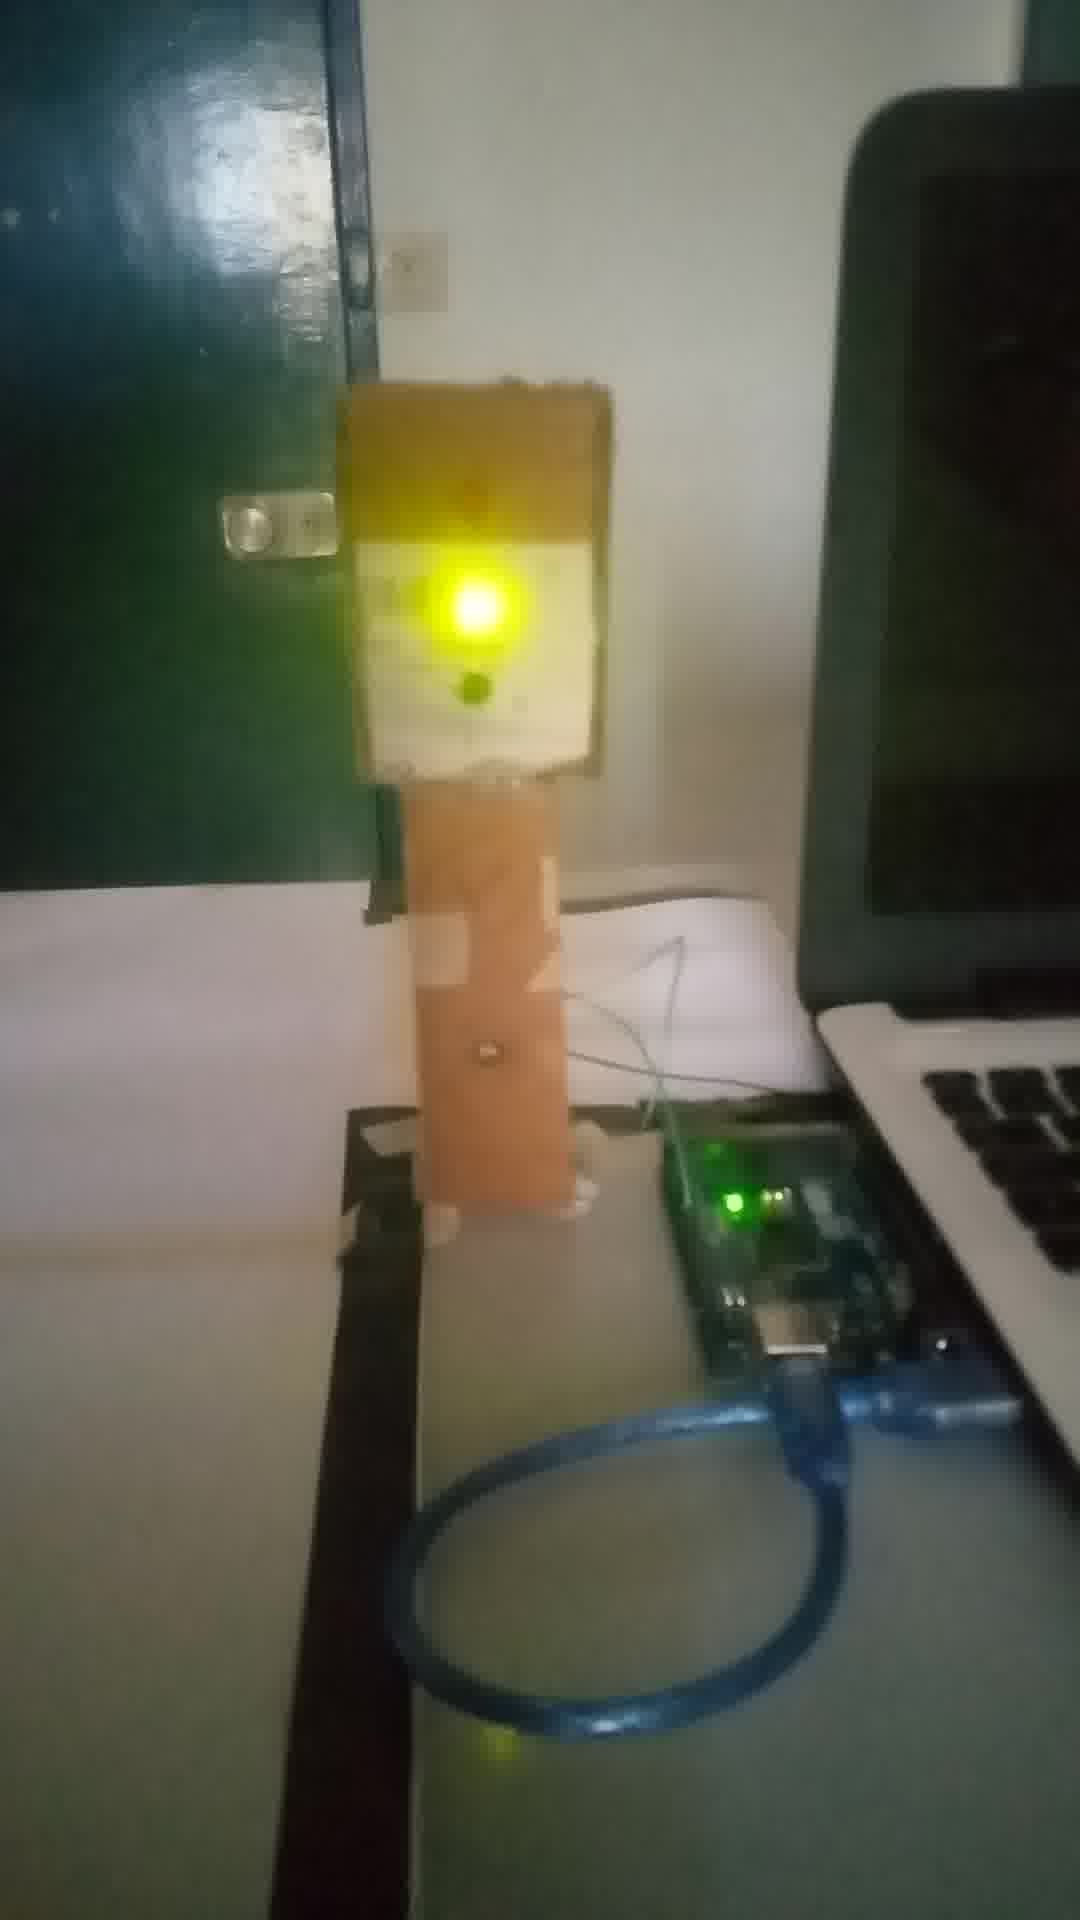yellow: (353, 397, 607, 774)
